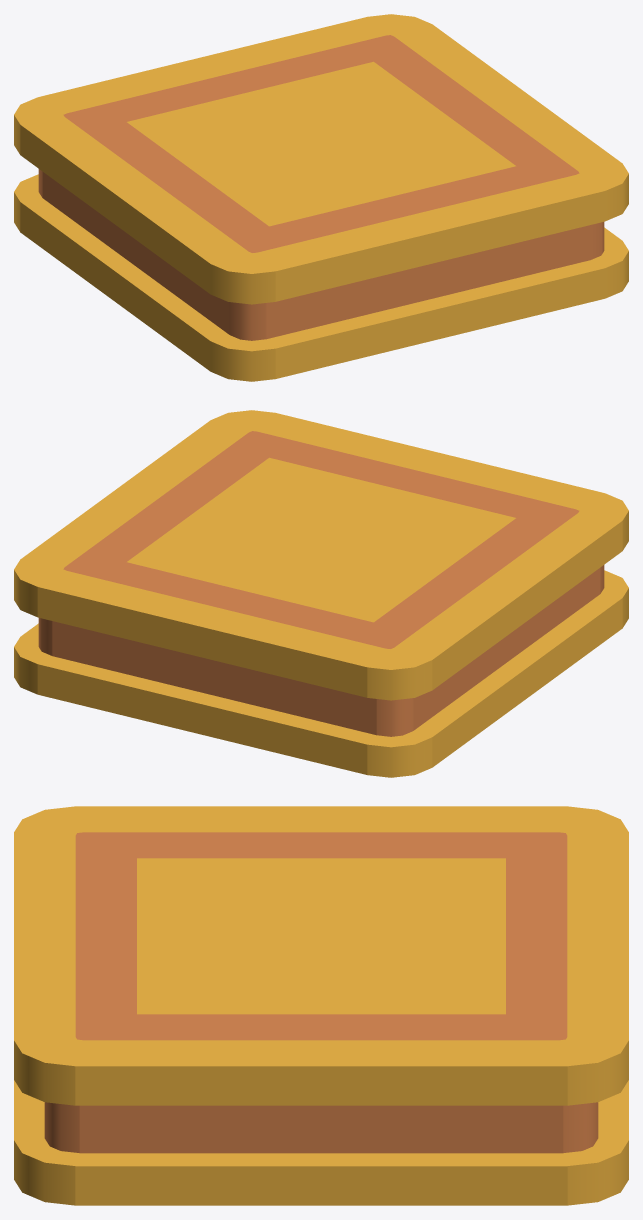
File: blockMoving.fbx
The picture shows the model from 3 angles, top to bottom: view 1: azimuth 30°, elevation 25°; view 2: azimuth 150°, elevation 25°; view 3: azimuth 270°, elevation 25°; orthographic projection. The views are drawn at different scales.
Parts seen in each view (by area): view 1: blockMoving; view 2: blockMoving; view 3: blockMoving.
Boxes of the visible parts, x1,y1,x2,y2 form: blockMoving: (14, 14, 628, 381); blockMoving: (14, 410, 628, 777); blockMoving: (14, 806, 628, 1205).
Size of the model in its own units: 10 by 2.5 by 10.
